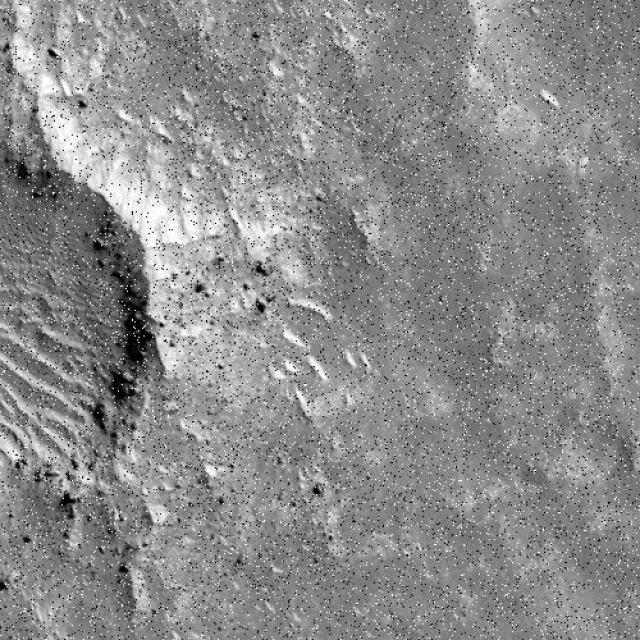crater: (0, 140, 151, 514), (458, 0, 562, 54), (561, 418, 635, 487)
